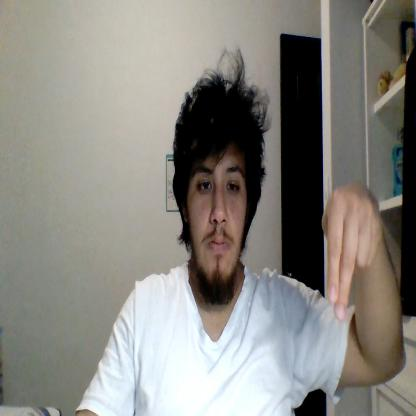N: (322, 180, 383, 322)
